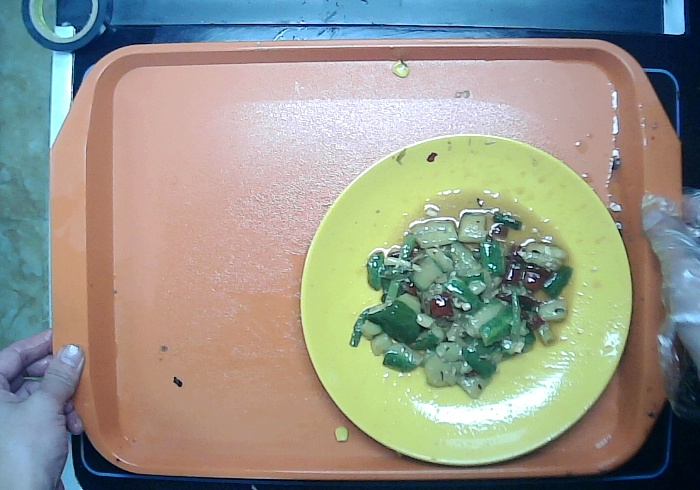HZYJPL-Huang_Se_Yuan_Pan: (297, 131, 636, 469)
